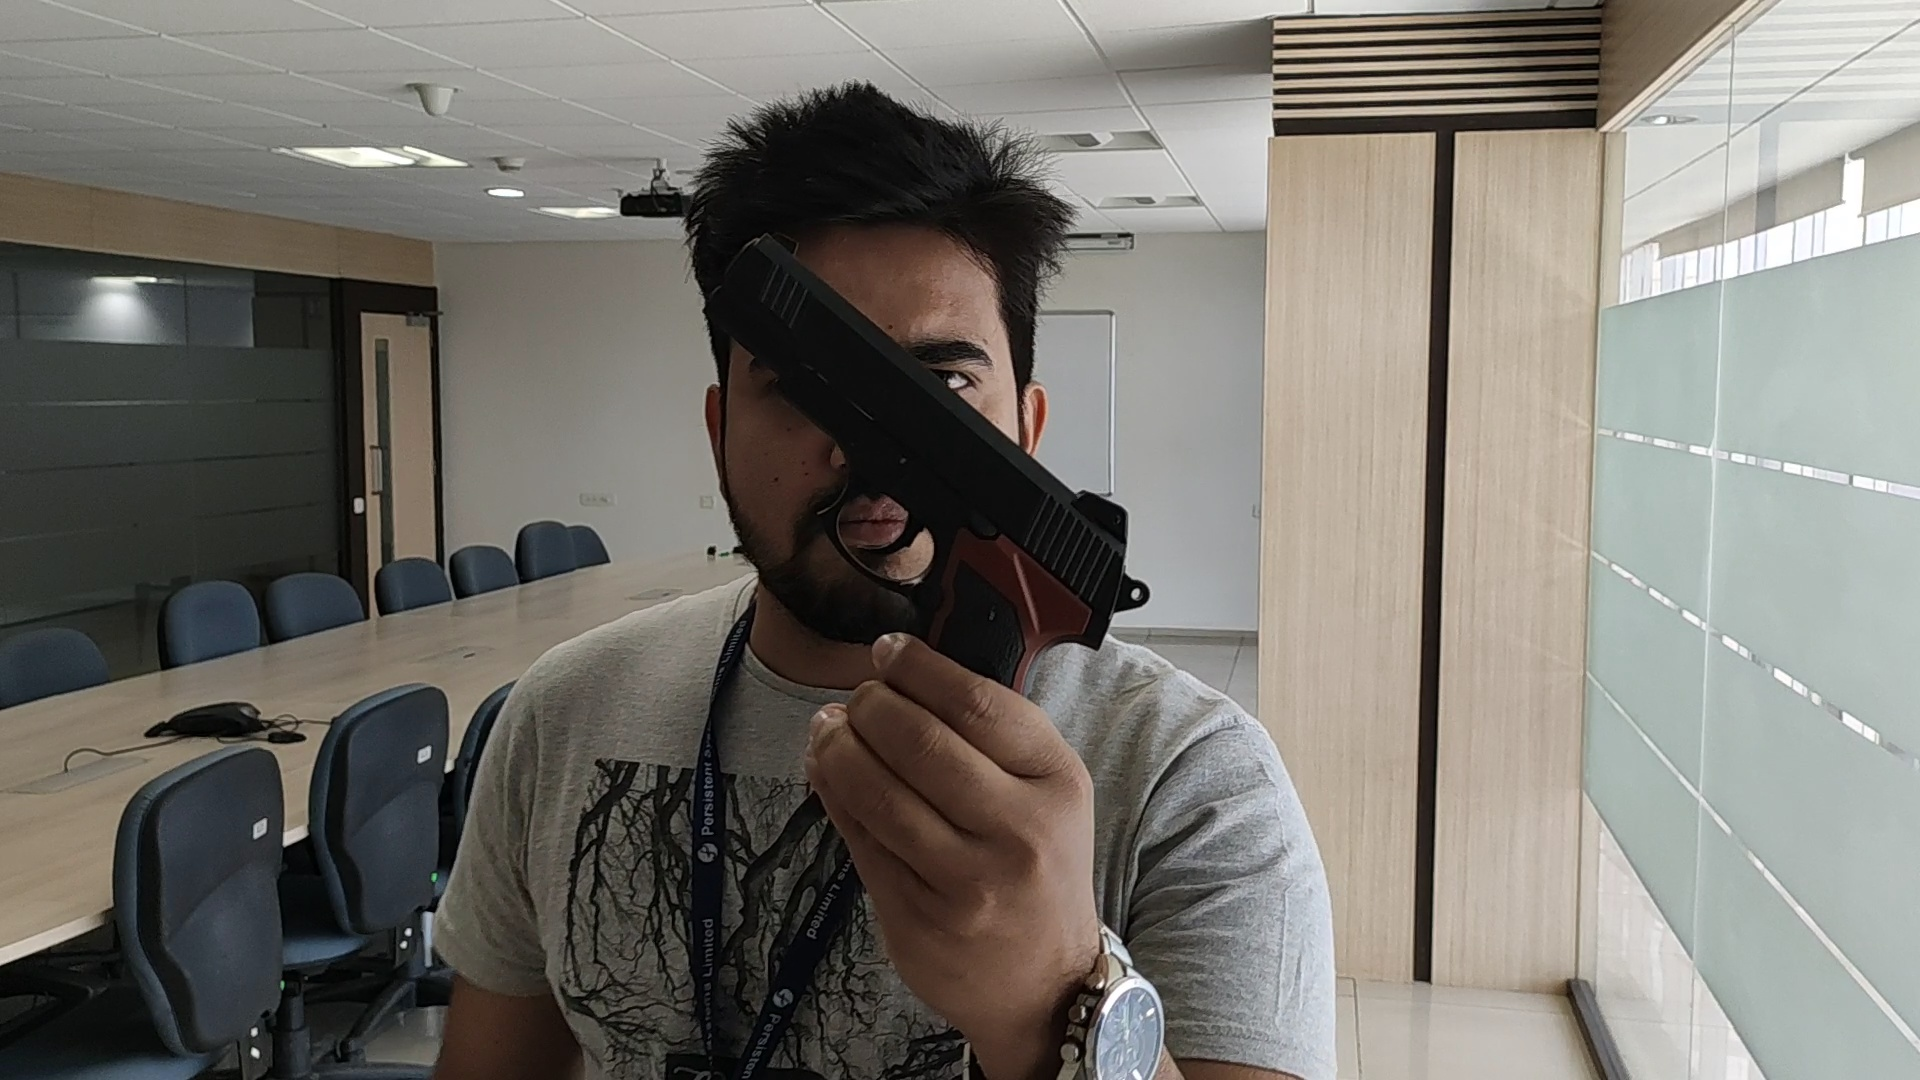gun: (811, 396, 1151, 630)
